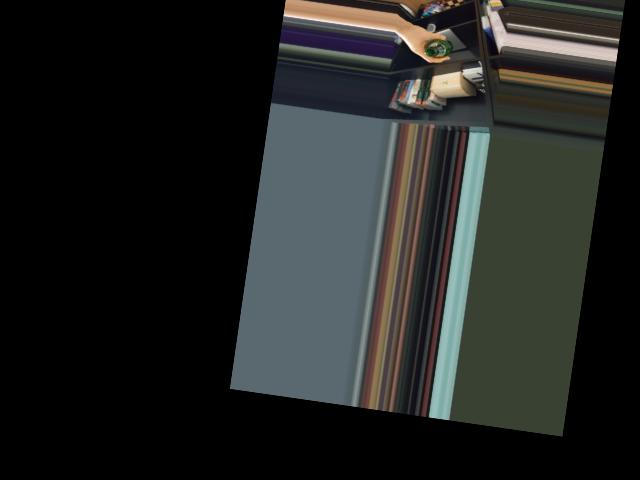beer: (423, 35, 453, 59)
